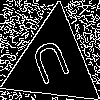U: (28, 38, 76, 95)
